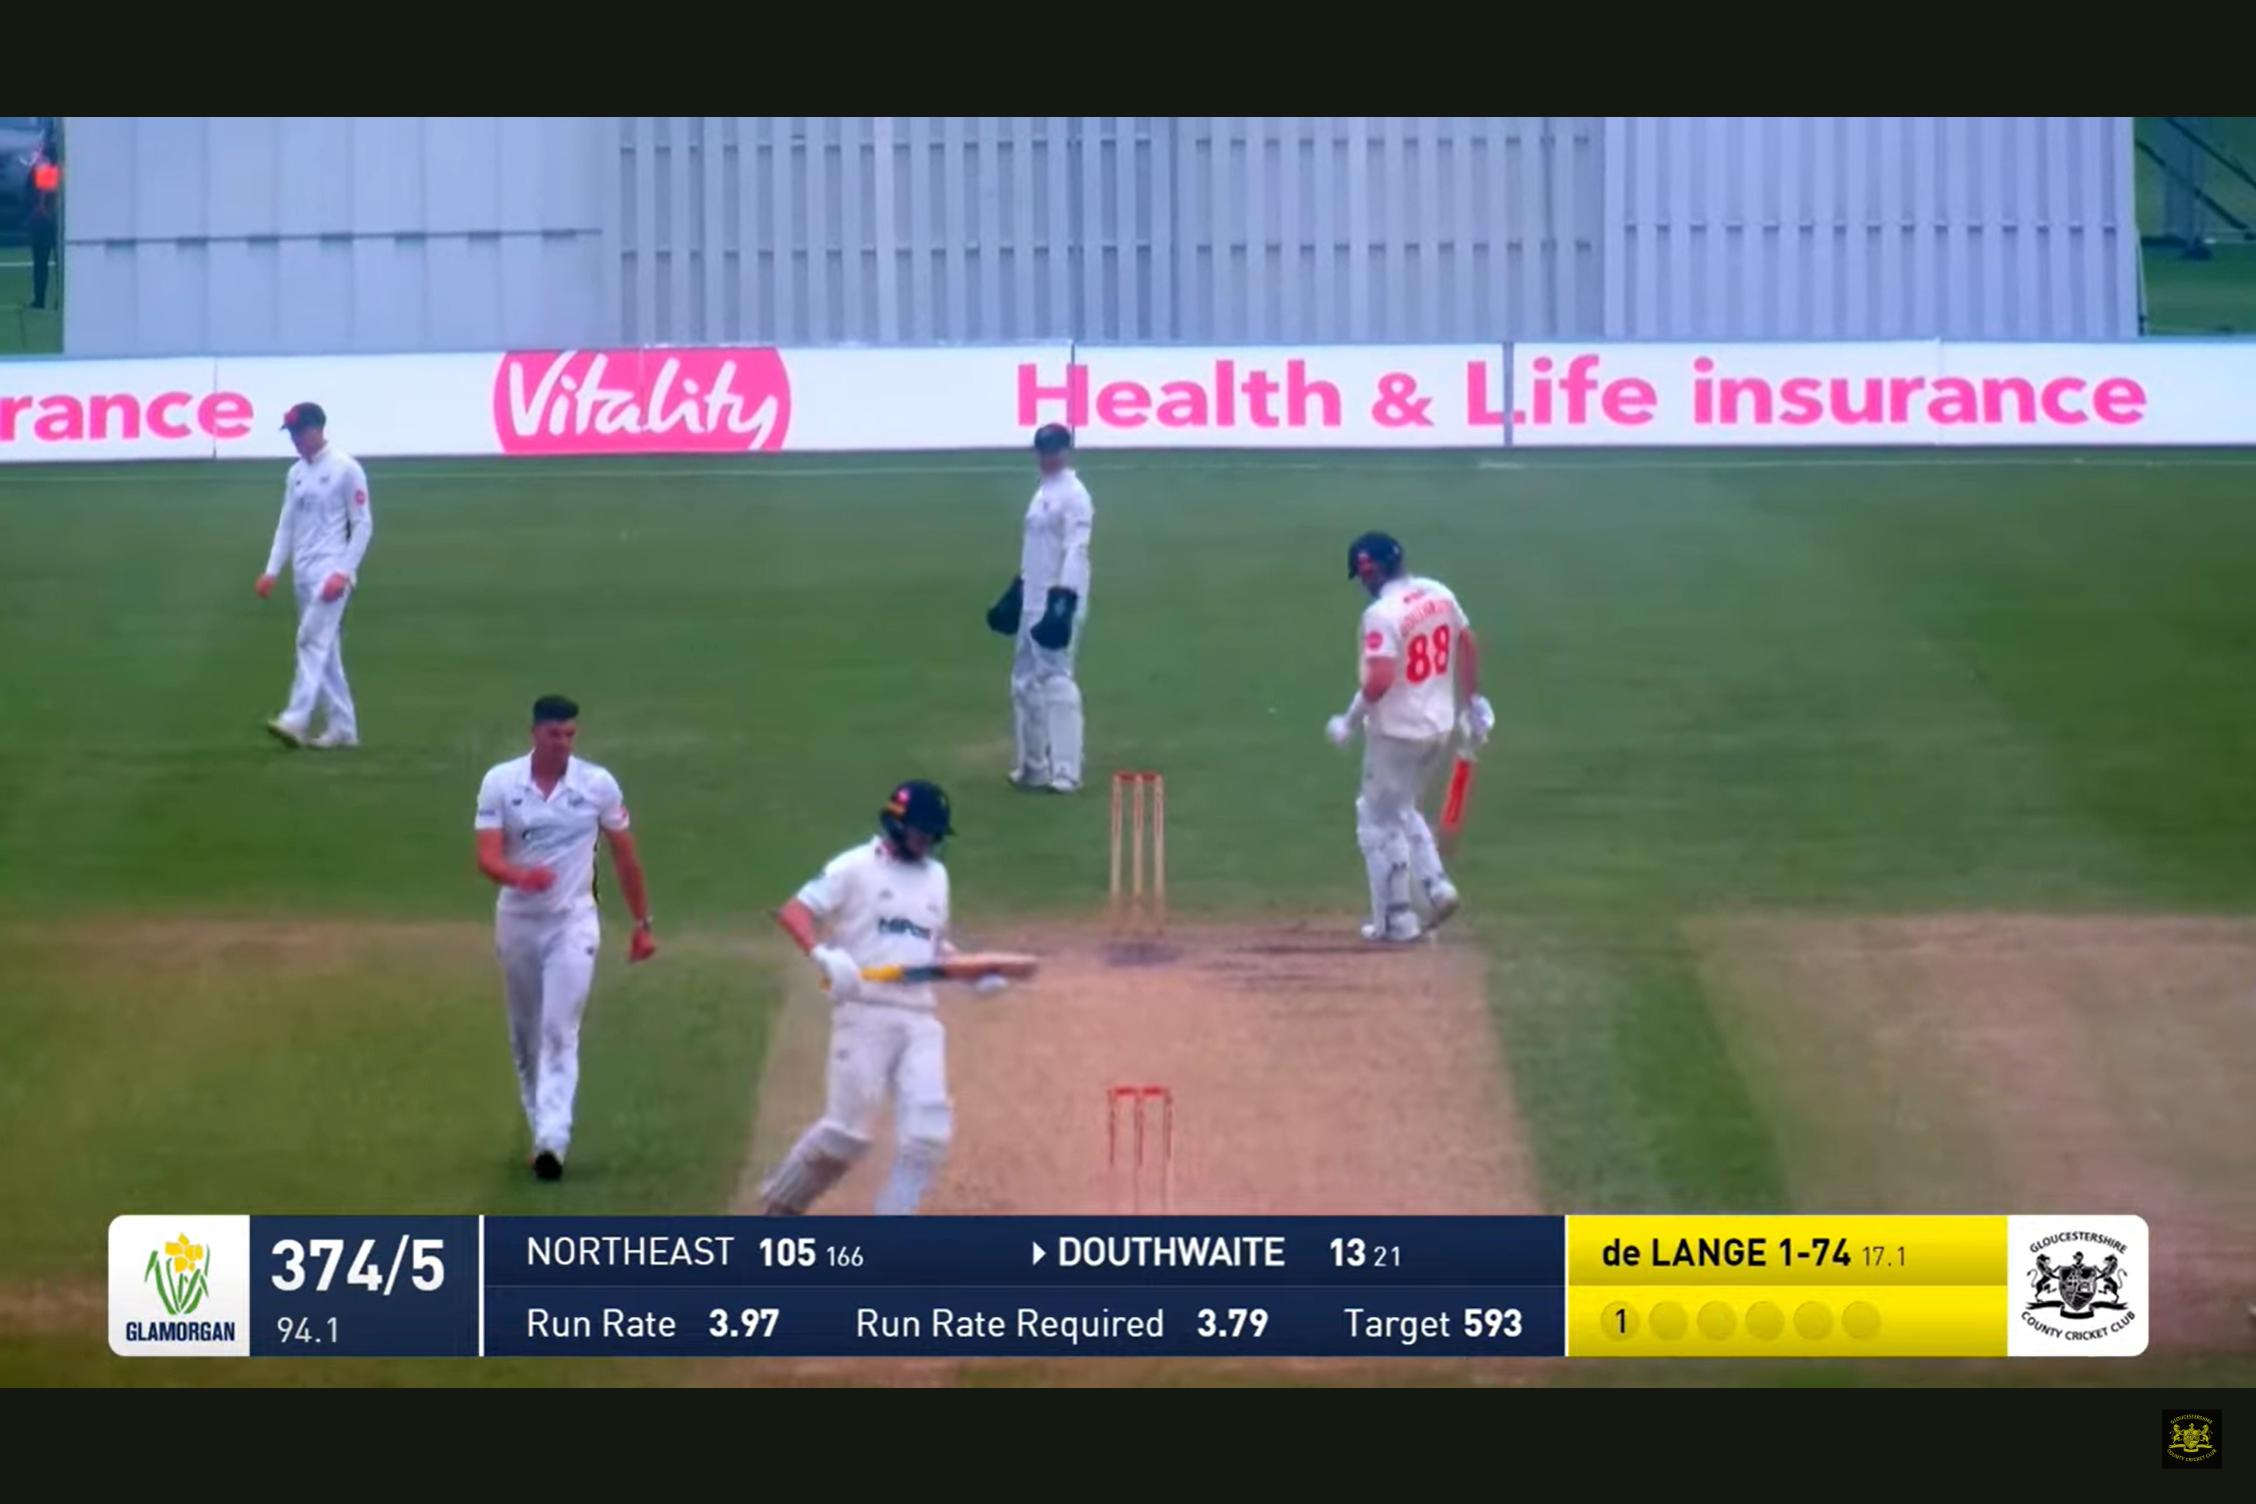batsman: (1316, 515, 1534, 970)
bowler walking back: (452, 698, 641, 1183)
wicket keeper: (932, 403, 1146, 792)
